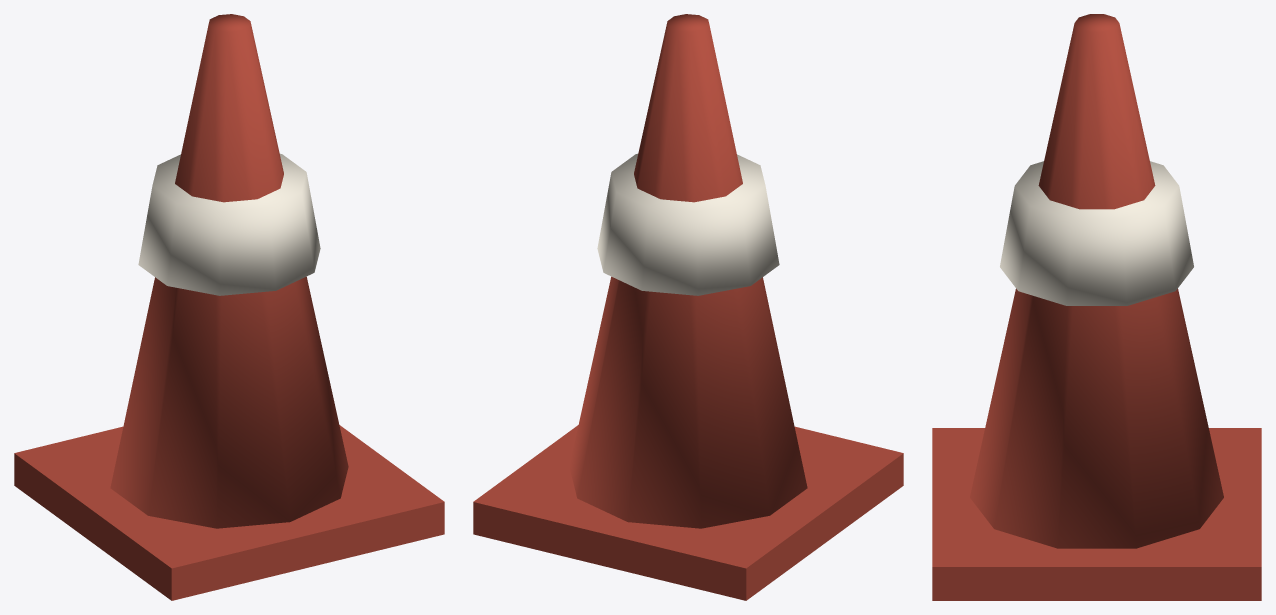
3 views of the same model, side by side, from view 1: azimuth 30°, elevation 25°; view 2: azimuth 150°, elevation 25°; view 3: azimuth 270°, elevation 25° (orthographic). The views are drawn at different scales.
Parts seen in each view (by area): view 1: city_cp_cone; view 2: city_cp_cone; view 3: city_cp_cone.
Part boxes in pixels (bbox=[...]): city_cp_cone: bbox=[14, 14, 444, 600]; city_cp_cone: bbox=[473, 14, 903, 600]; city_cp_cone: bbox=[932, 14, 1261, 600].
Size of the model in its own units: 0.44 by 0.75 by 0.44.
1 material, 1 textured.
